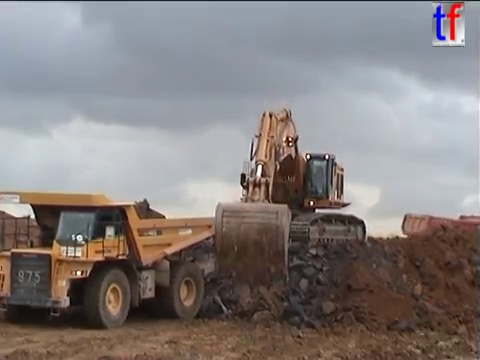excavator: (211, 105, 368, 293)
truck: (1, 188, 233, 331), (399, 211, 480, 250)
